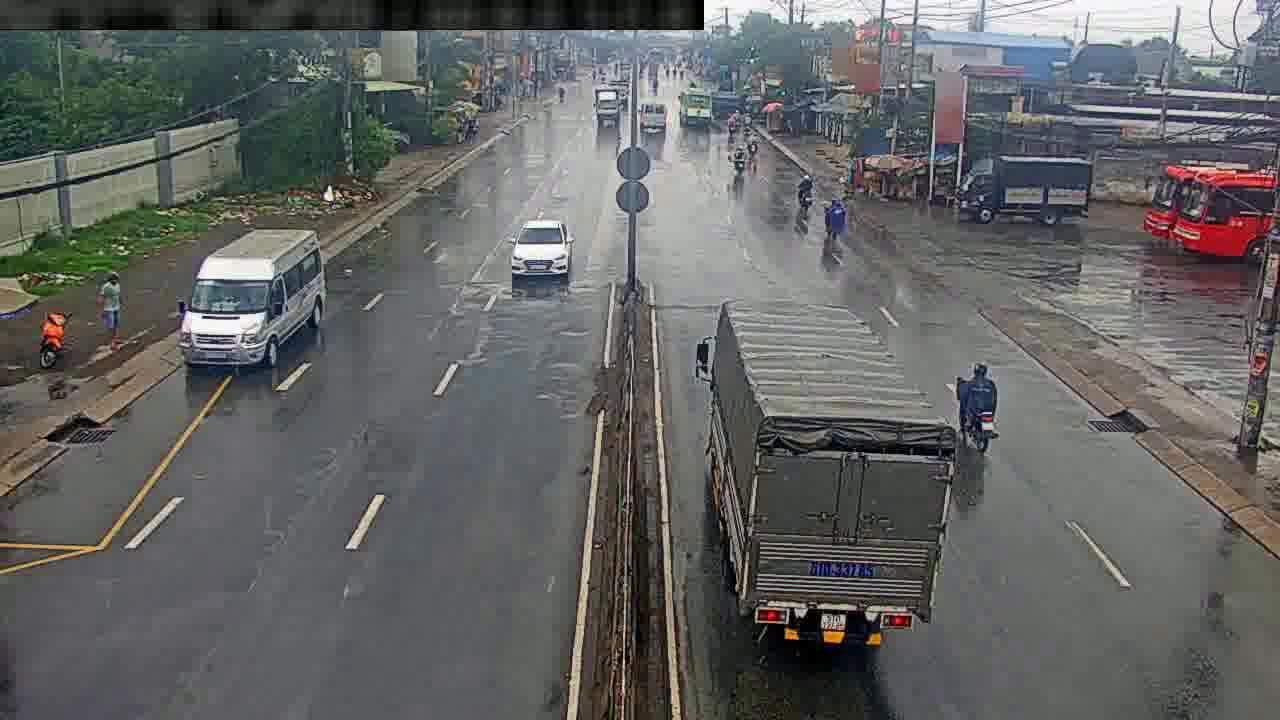14: (177, 230, 326, 372)
8: (696, 292, 949, 639), (587, 83, 621, 127)
container: (507, 216, 573, 282)
motorbike: (961, 358, 1002, 450), (35, 306, 69, 378), (824, 191, 845, 238), (798, 170, 814, 215), (731, 142, 749, 177)
